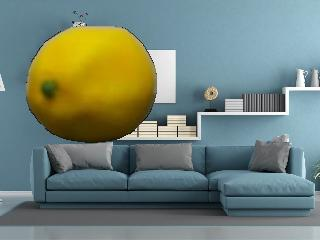lemon: (22, 23, 160, 148)
